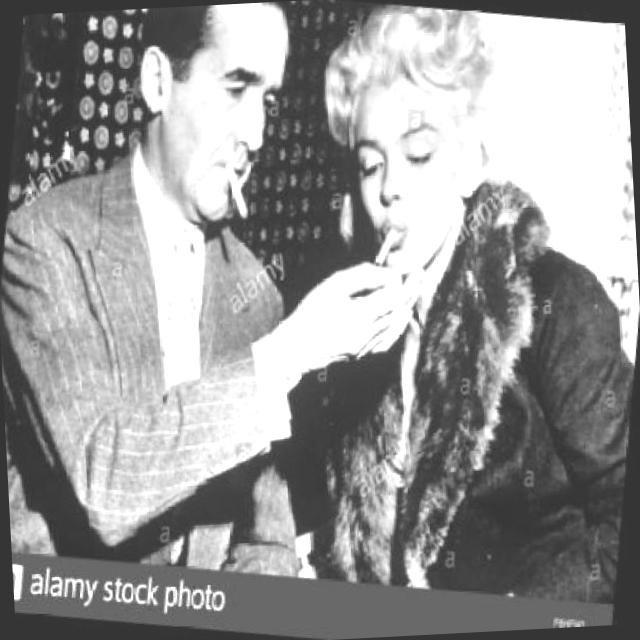cigarette: (219, 163, 260, 224), (371, 224, 407, 282)
